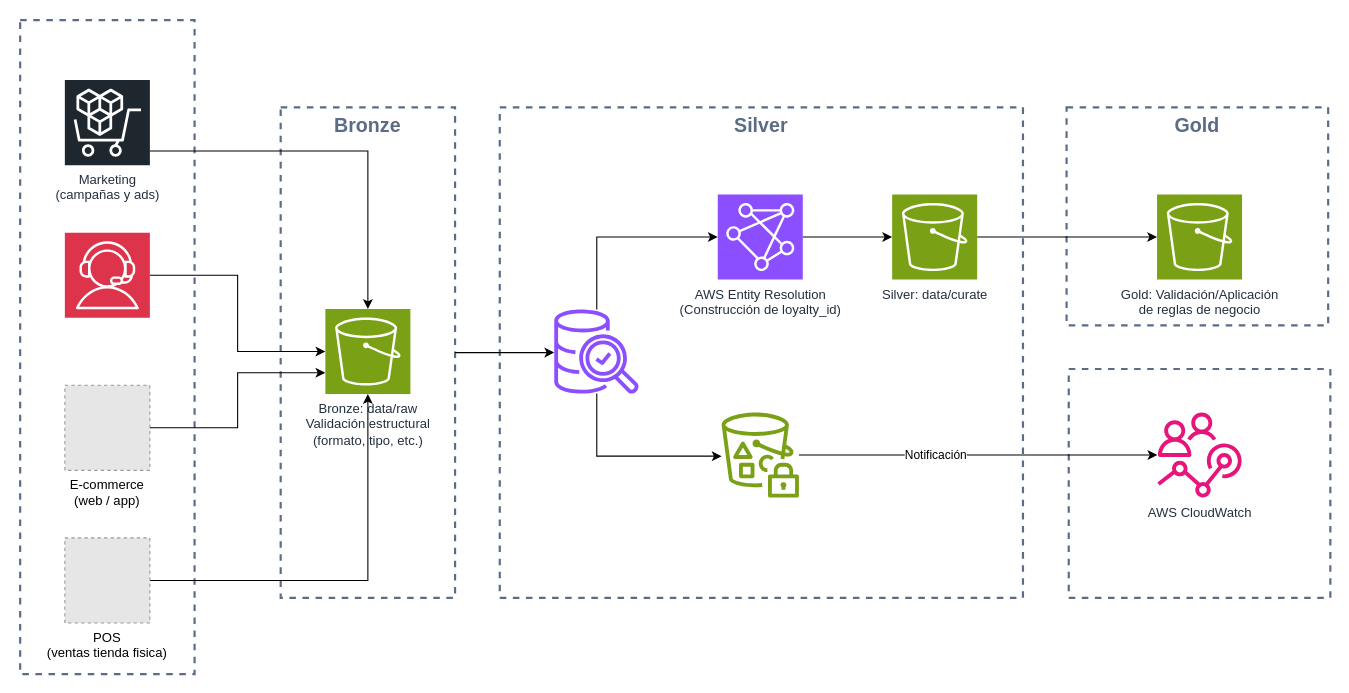
The diagram is 1349 pixels wide and 693 high, and some of its shapes have lost their labels. Grey dashed boxes stand in for pictures. The shapes that lost their labels are listed below. From the top down, each one's box as (x1, y1, x2, y2) in pixels, then its label:
(64, 232, 150, 318): CRM (perfiles y lealtad)
(19, 19, 195, 675): Fuentes de datos
(554, 308, 639, 393): AWS Glue Data Quality
(721, 412, 798, 497): Cuarentena (Registros a revisar/subsanar)
(1067, 367, 1331, 598): Observabilidad
